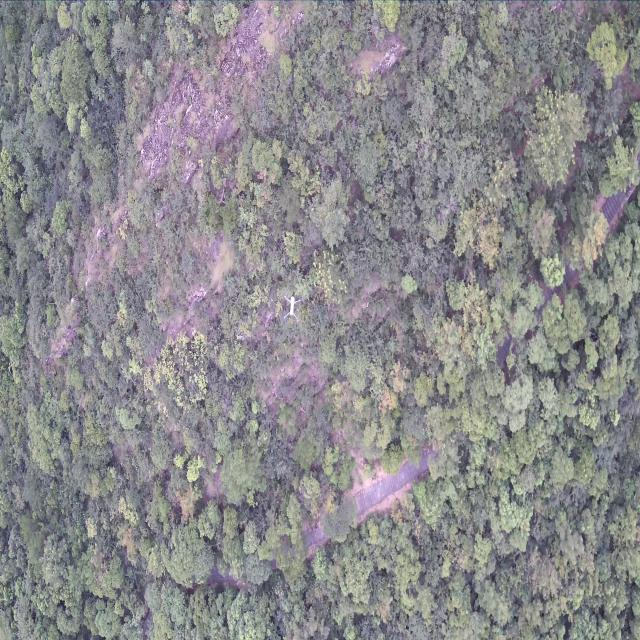drone: (283, 294, 301, 322)
